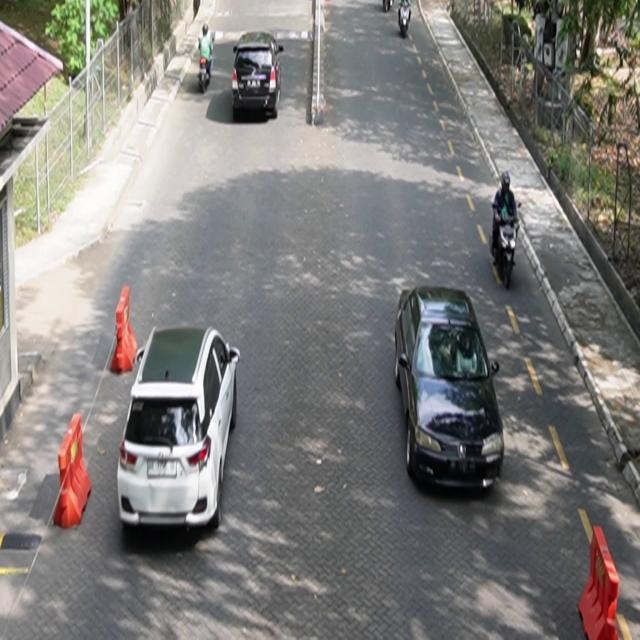car: (118, 325, 241, 533), (395, 286, 505, 494), (232, 31, 285, 120)
